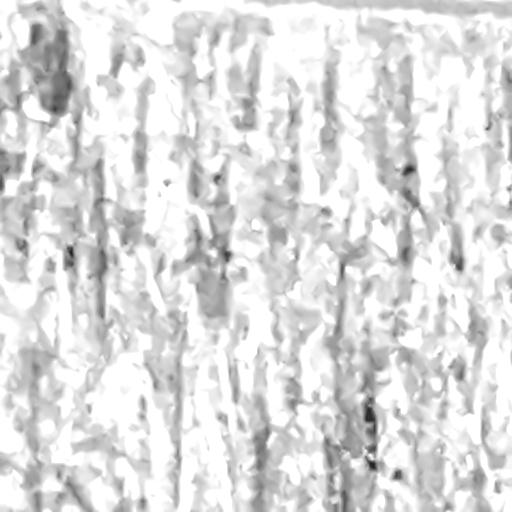egg: (359, 398, 381, 432), (402, 164, 424, 178)
